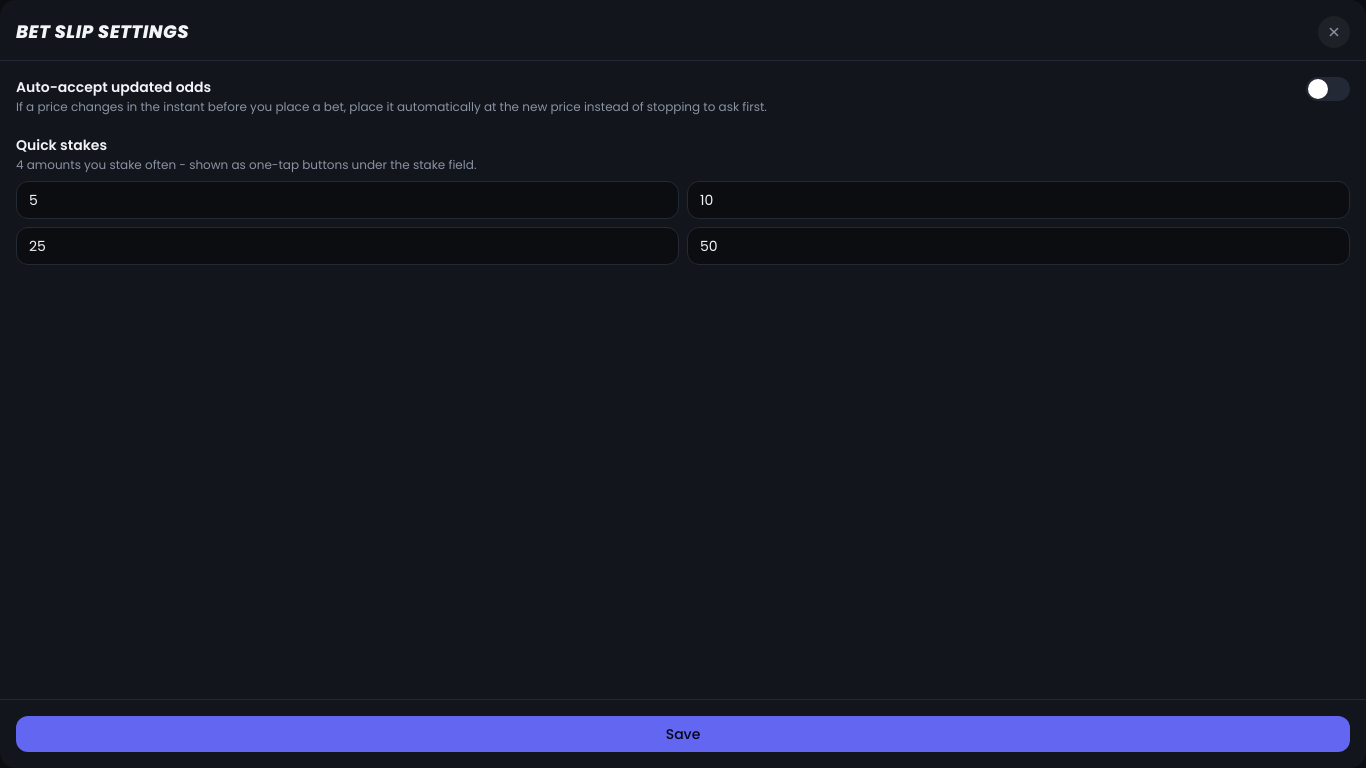
Test: BetSlipSettingsPanel › disables Save and does not persist when a quick stake is invalid
Clear the 1st field named "Quick stake 1": (348, 200) [16,181,679,219]
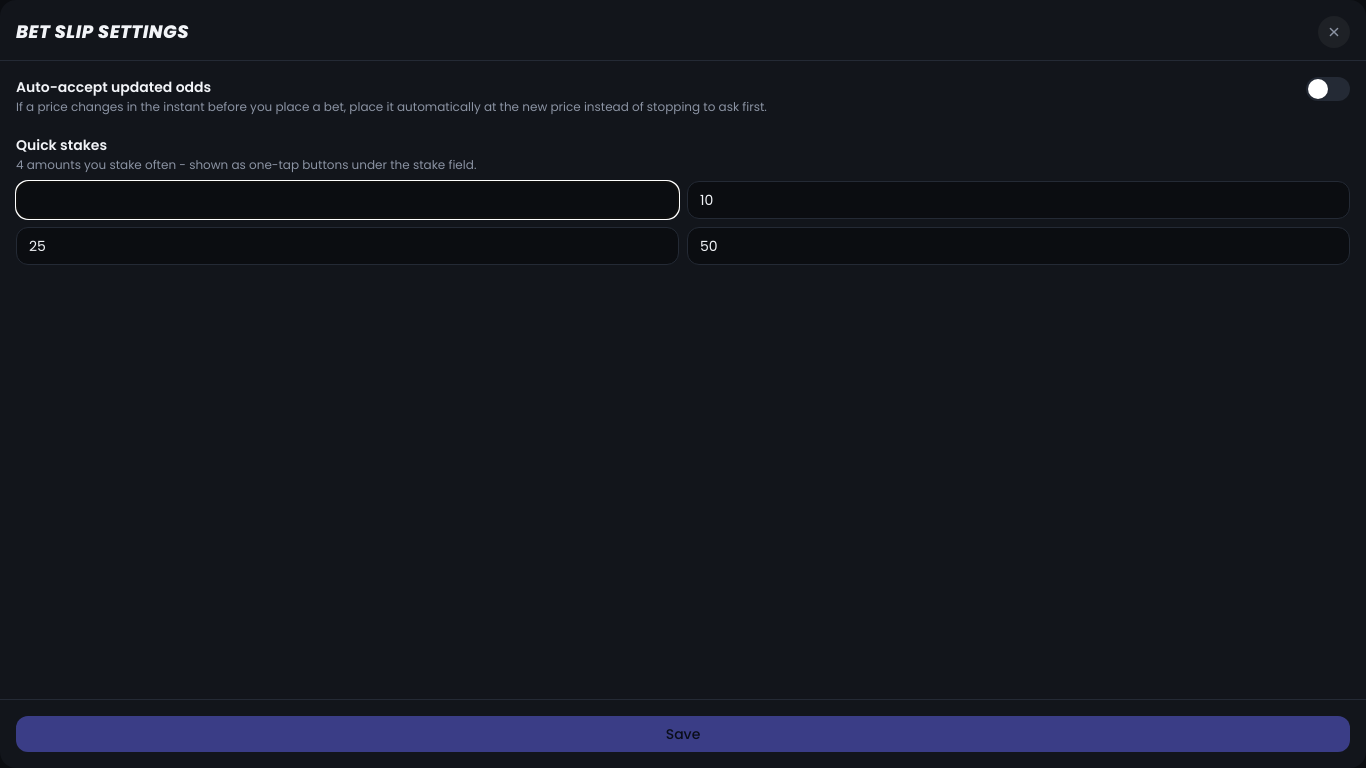
Expected: the button "Save" is disabled, [16,716,1350,752]
